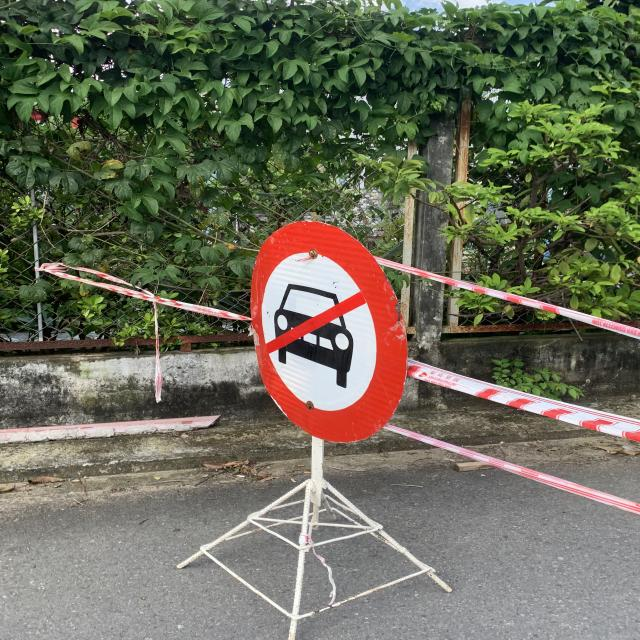Cam_O_To: (248, 220, 410, 444)
